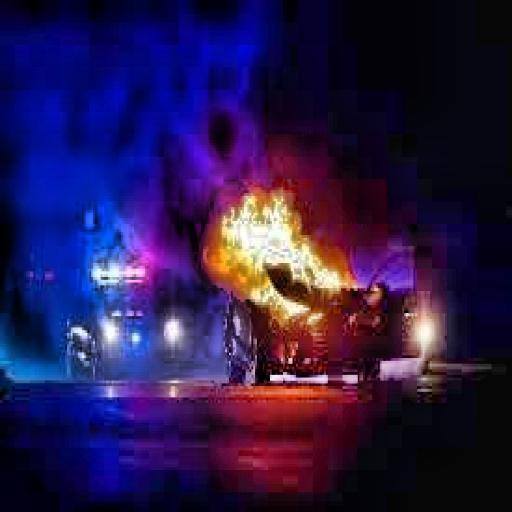fire: (204, 179, 368, 330)
